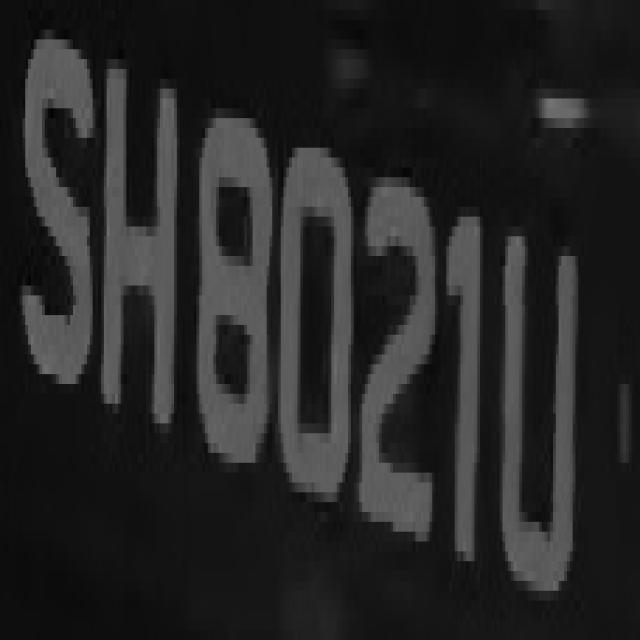0: (284, 99, 362, 532)
1: (438, 177, 488, 581)
2: (359, 148, 438, 551)
8: (194, 89, 275, 512)
H: (104, 30, 182, 472)
S: (26, 49, 96, 374)
U: (494, 197, 584, 591)
